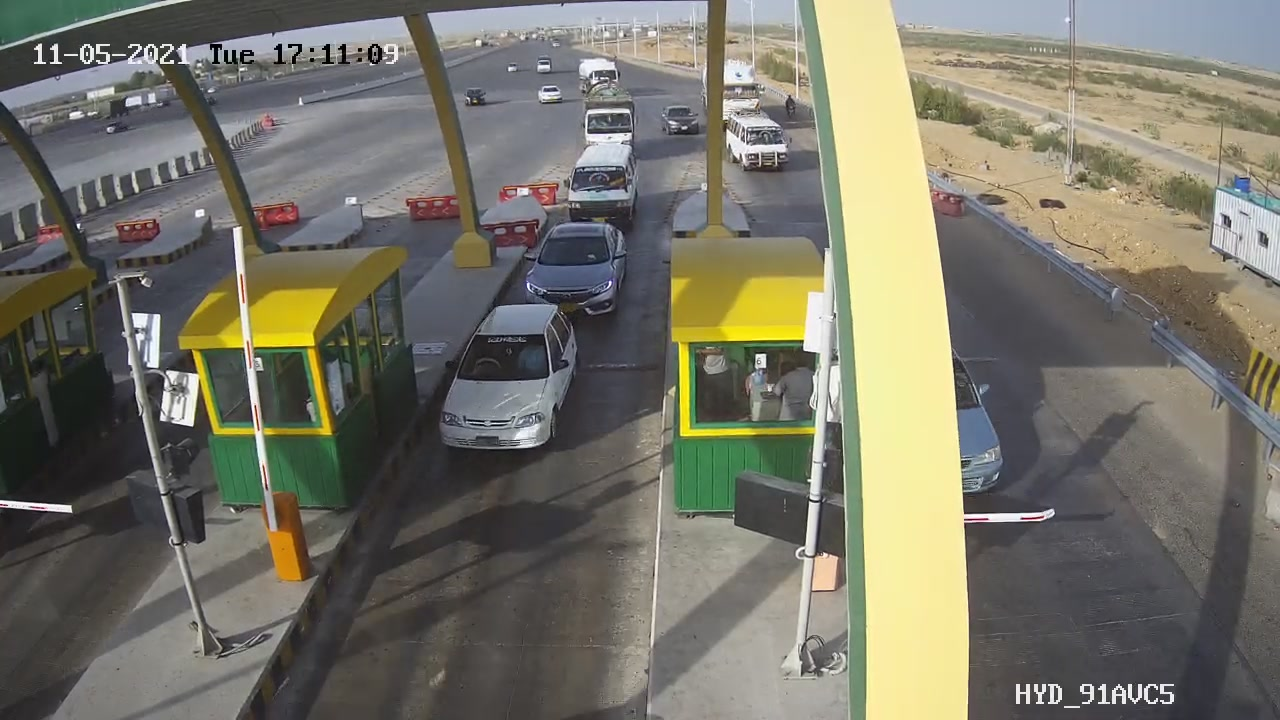F1: (416, 288, 595, 474), (505, 214, 642, 333)
